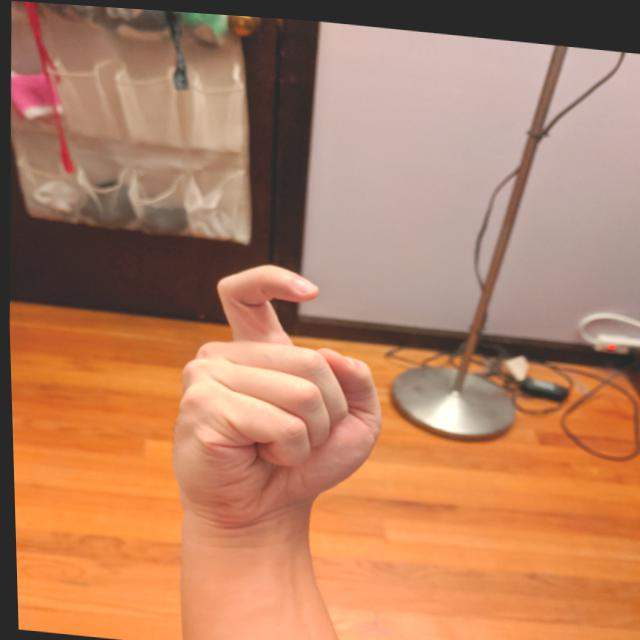X: (156, 245, 393, 534)
